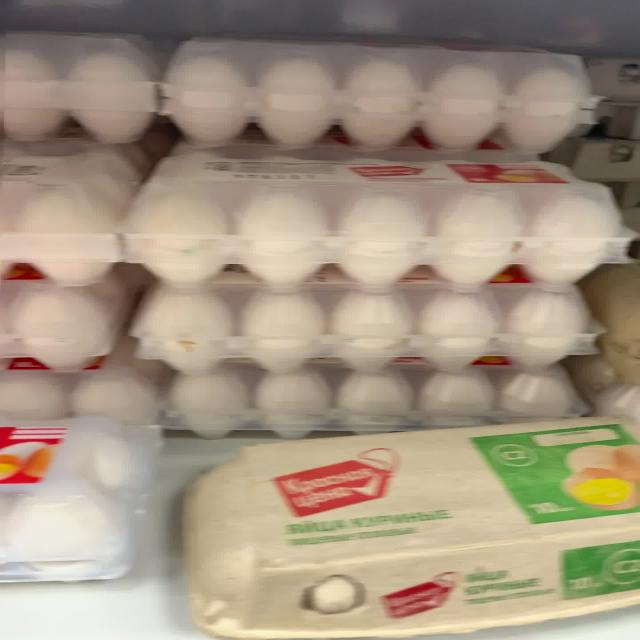egg box: (174, 424, 634, 635), (124, 144, 638, 288)
